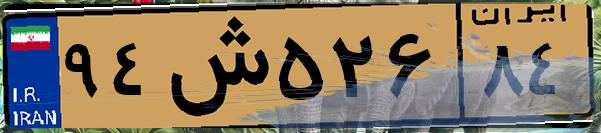2: (330, 28, 385, 110)
4: (525, 38, 570, 115), (110, 28, 158, 98)
5: (270, 28, 330, 110)
6: (385, 28, 445, 110)
8: (475, 38, 525, 113)
9: (57, 26, 110, 100)
ش: (158, 12, 270, 120)
